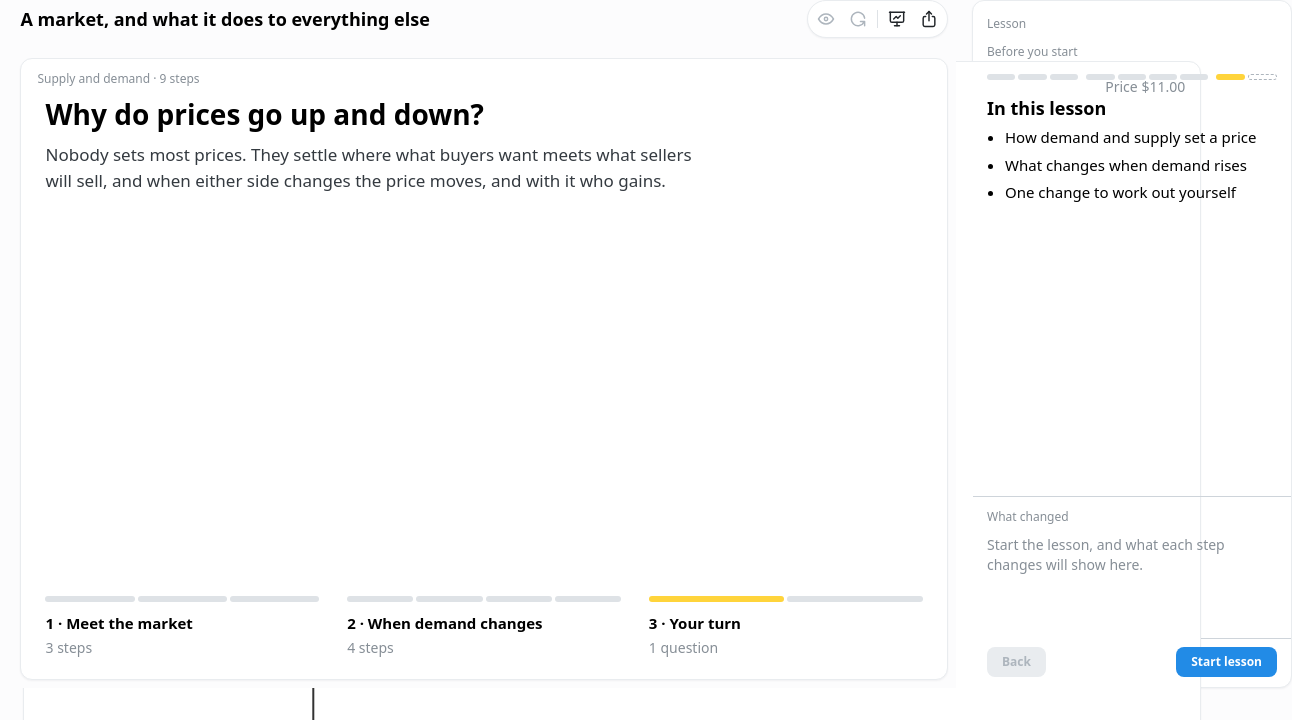
the lesson speaks on its card, and "What changed" reports the numbers › moves to the next step's words at the next step
Step 1. Click the button named "Step 5 of 9: Incomes rise" → click(1132, 77), box [1118,67,1146,87]
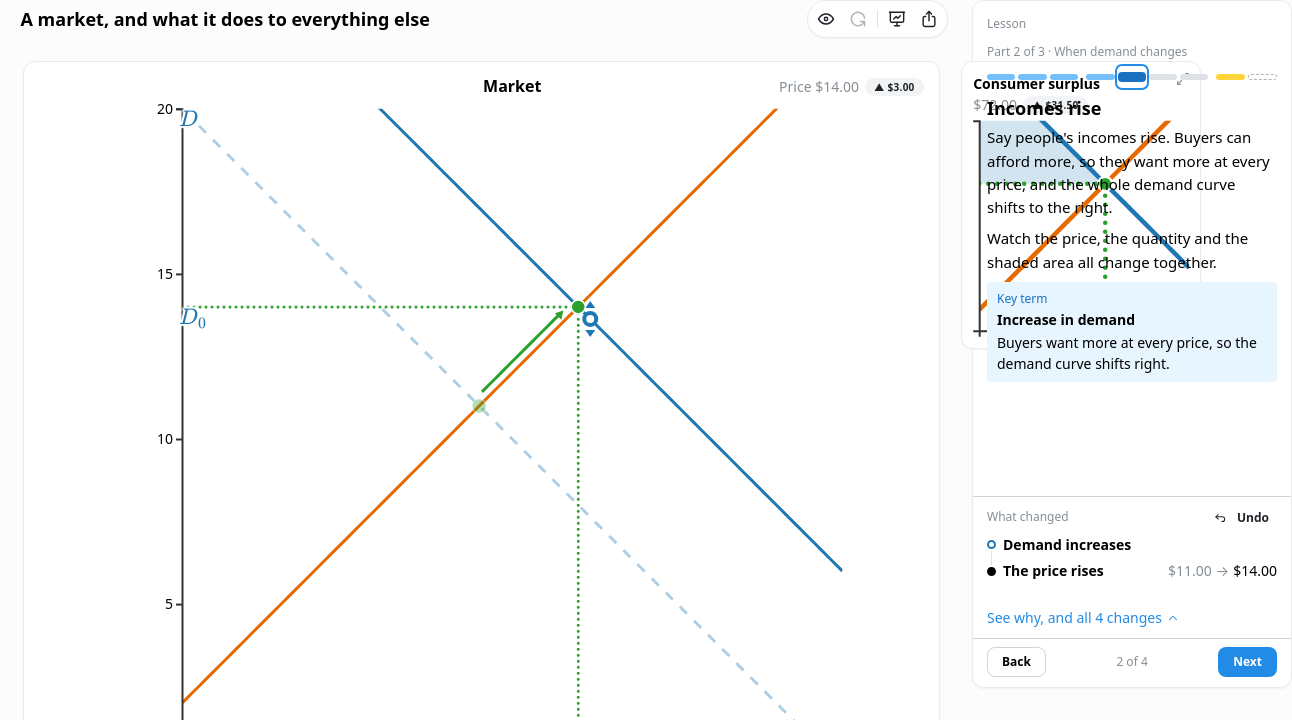
Step 2. Click the button "Next" → click(1248, 662), box [1218,647,1277,677]
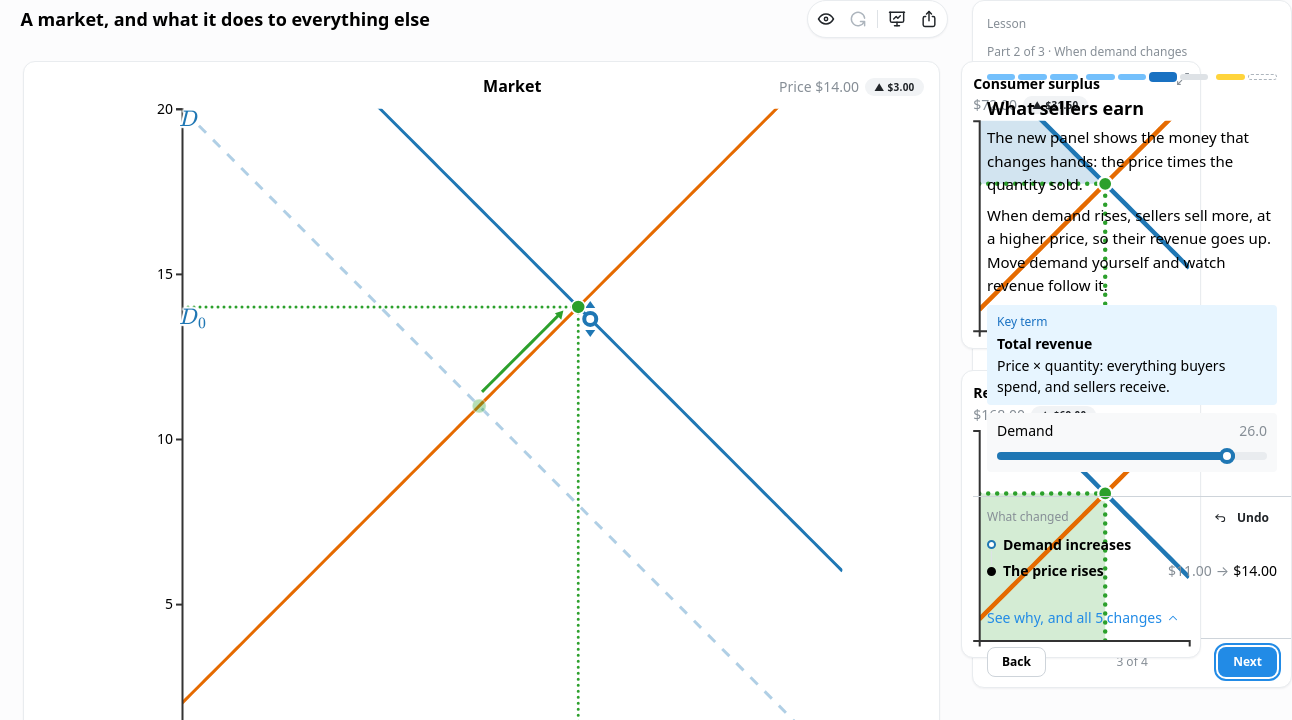
Expected: the element that starts with "What sellers earn" is shown, [987,96,1144,120]
Expected: the heading "Incomes rise" no longer shows "Incomes rise"
